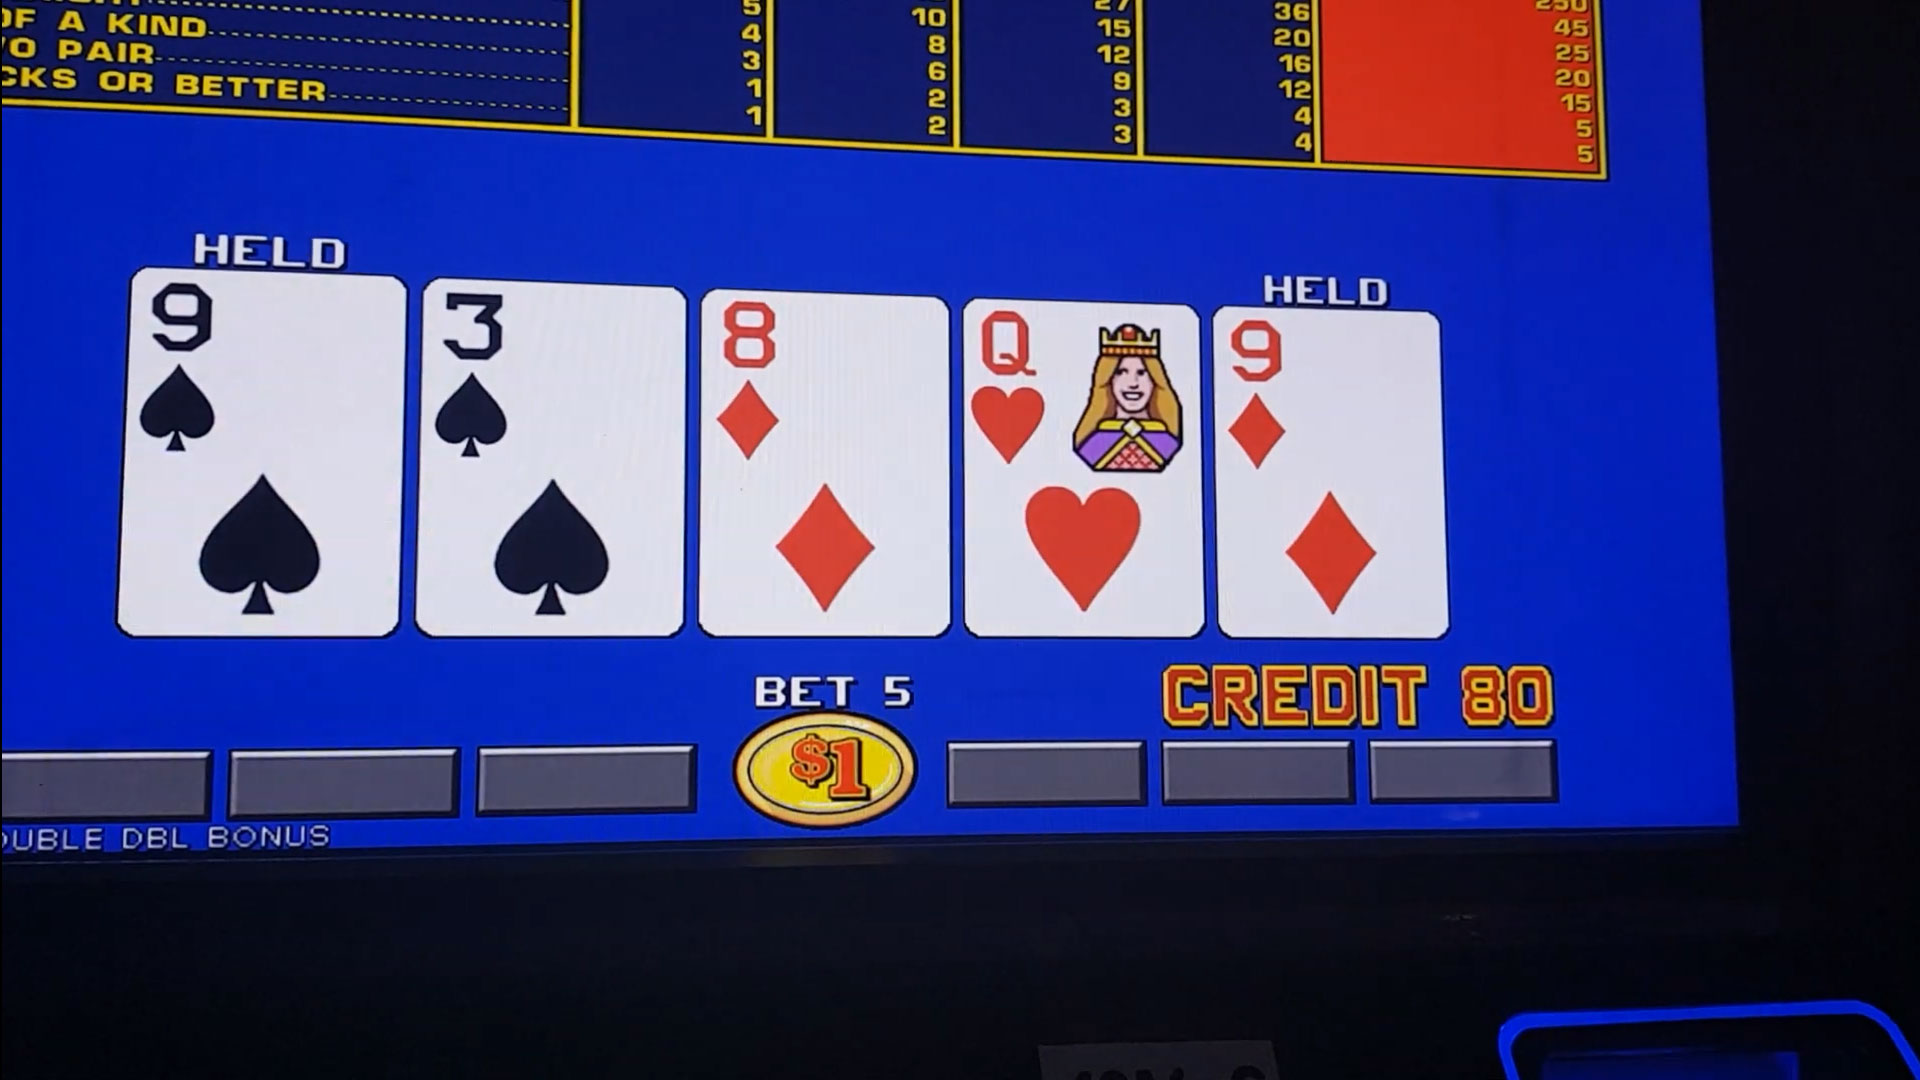D8: (704, 307, 947, 467)
D9: (1221, 316, 1436, 484)
HQ: (969, 309, 1197, 479)
S3: (434, 297, 680, 458)
S9: (137, 287, 390, 462)
